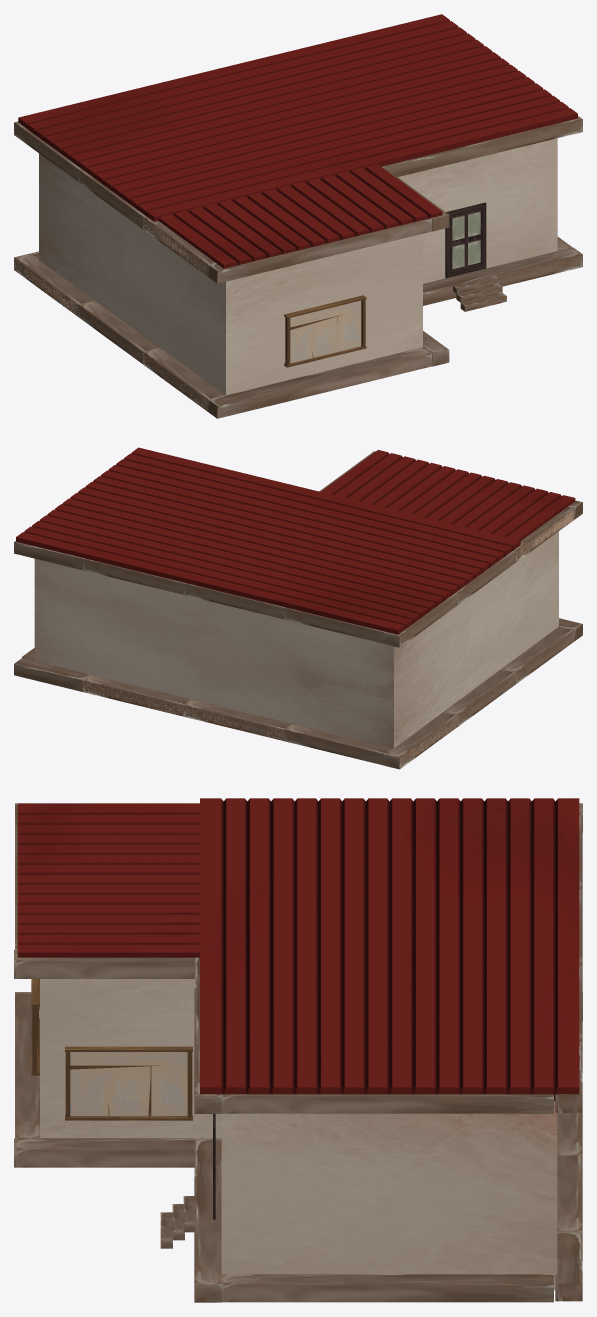
Rendered from Nha 11.fbx.
The picture shows the model from 3 angles, top to bottom: view 1: azimuth 30°, elevation 25°; view 2: azimuth 150°, elevation 25°; view 3: azimuth 270°, elevation 25°; orthographic projection. The views are drawn at different scales.
Parts seen in each view (by area): view 1: Plane.035; view 2: Plane.035; view 3: Plane.035.
Boxes of the visible parts, left/top/right/bottom form: Plane.035: left=14, top=14, right=582, bottom=418; Plane.035: left=14, top=447, right=582, bottom=769; Plane.035: left=14, top=798, right=582, bottom=1302.
Size of the model in its own units: 1763 by 616 by 1447.
